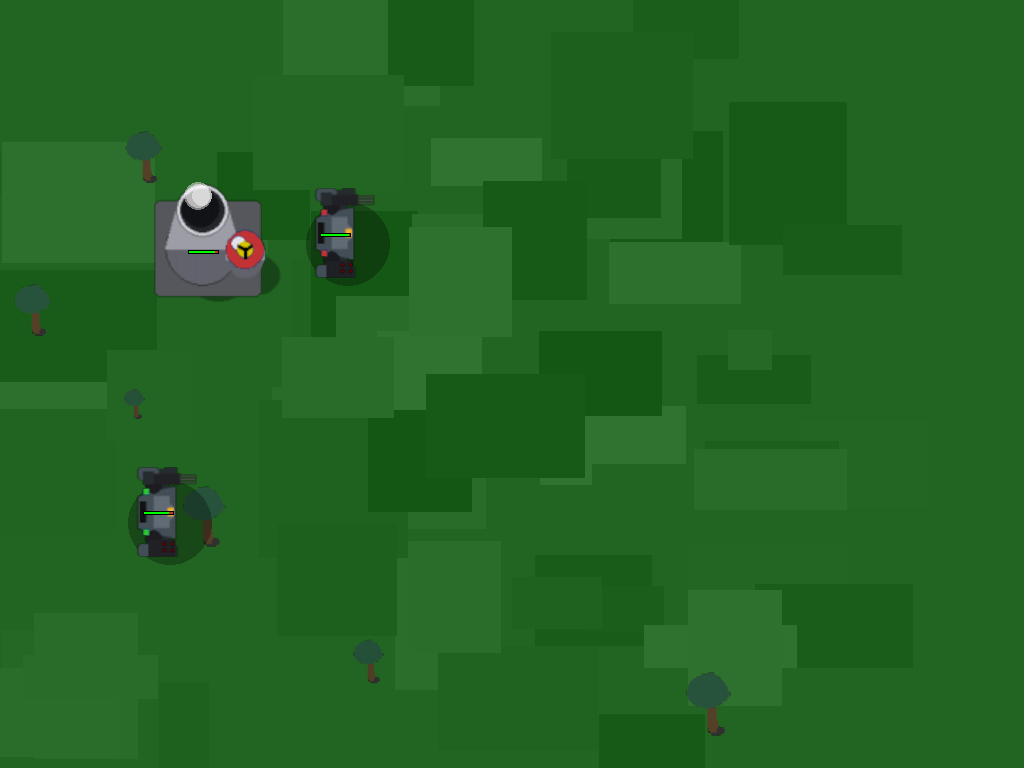APC_usa: (160, 206, 246, 292)
Bastion: (304, 200, 366, 262), (126, 479, 188, 541)
